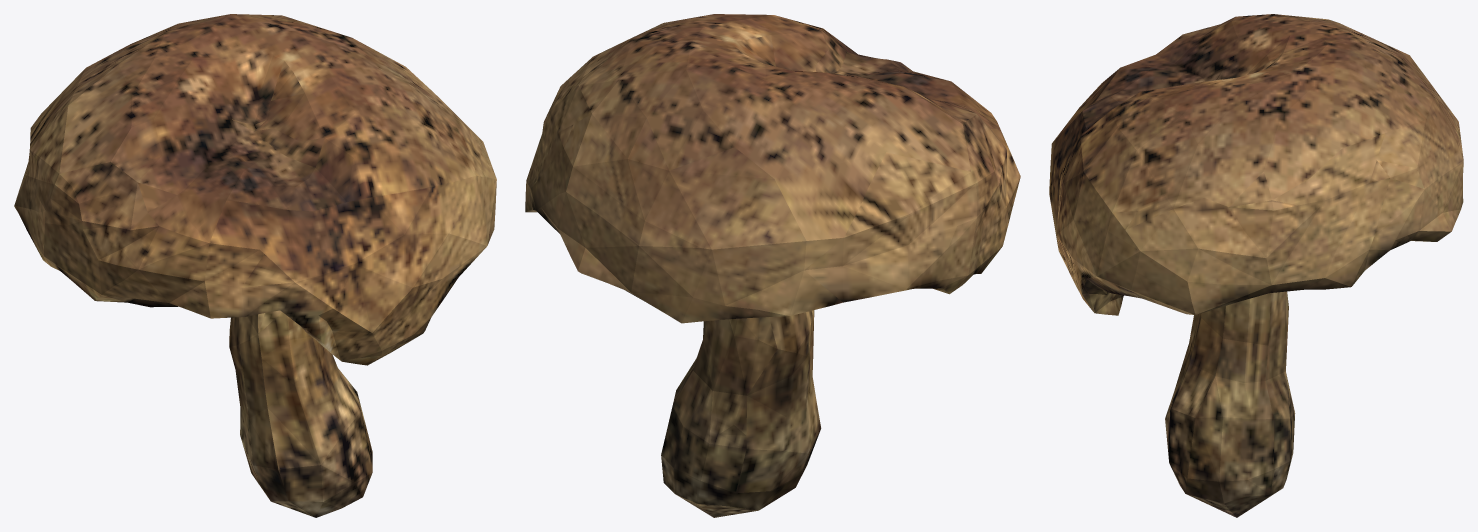
Rendered from P_Songrong_04.obj.
3 renders of one model, left to right at view 1: azimuth 30°, elevation 25°; view 2: azimuth 150°, elevation 25°; view 3: azimuth 270°, elevation 25°, orthographic. The views are drawn at different scales.
Size of the model in its own units: 0.48 by 0.5253 by 0.4453.
Materials: 1 (1 with a texture image).
